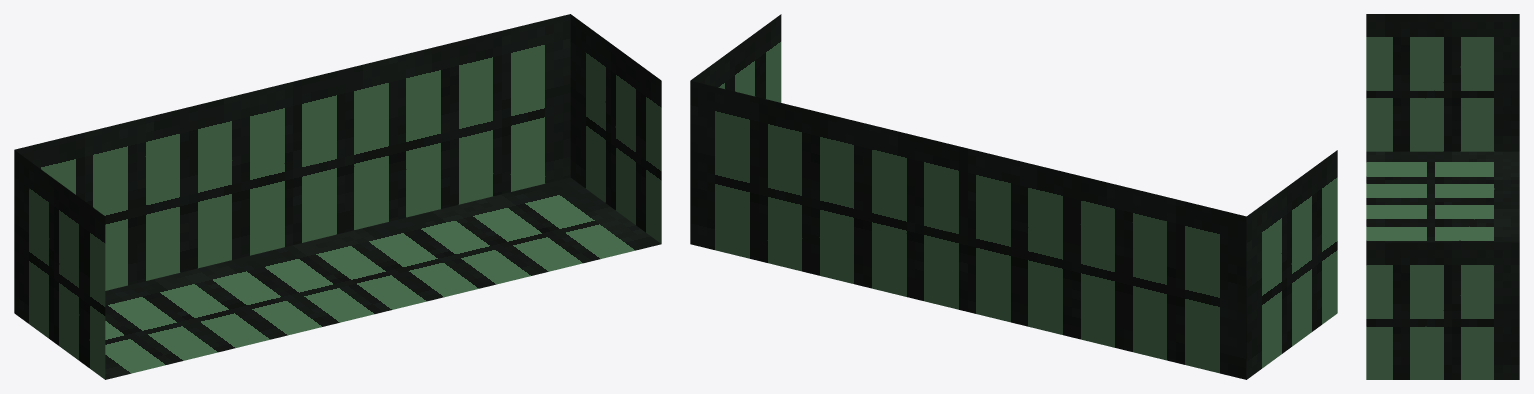
3 views of the same model, side by side, from view 1: azimuth 30°, elevation 25°; view 2: azimuth 150°, elevation 25°; view 3: azimuth 270°, elevation 25° (orthographic). The views are drawn at different scales.
Visible parts, largest first — view 1: balcony-type-a; view 2: balcony-type-a; view 3: balcony-type-a.
Part boxes in pixels (<box>): balcony-type-a: <box>14,14,661,379</box>; balcony-type-a: <box>690,14,1337,379</box>; balcony-type-a: <box>1366,14,1519,379</box>.
Size of the model in its own units: 1 by 0.2808 by 0.2837.
1 material, 1 textured.
